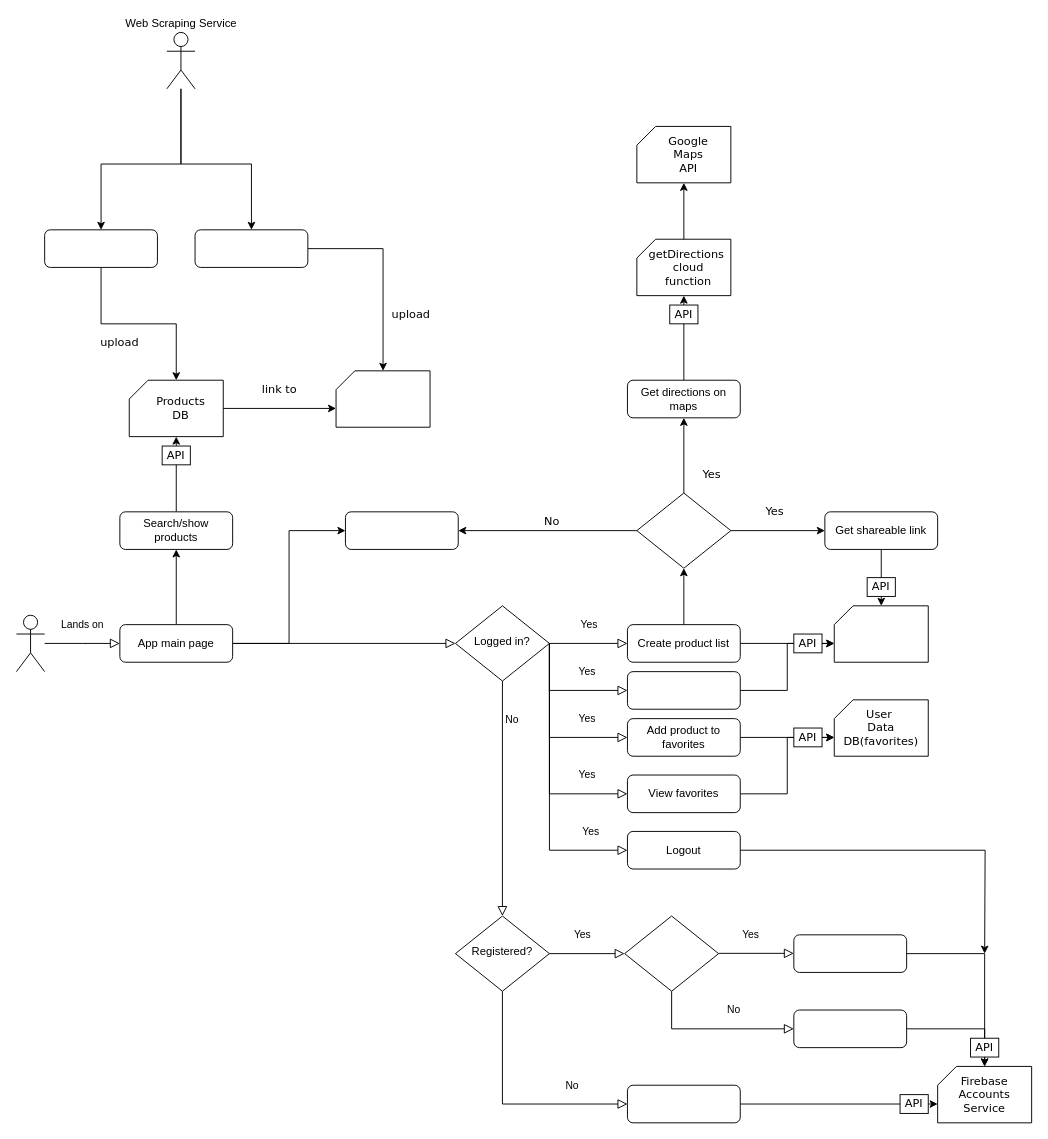
This 1048x1139 diagram has some shape labels left out. The centre of each missing label's shape, as x and y in pixels:
"Forgot Password?" goes at (671,953).
"Gather product information" goes at (100,248).
"Image Storage" goes at (382,398).
"Login into existing account" goes at (850,1028).
"Premium account?" goes at (683,530).
"Purchase premium" goes at (401,530).
"Register new account" goes at (683,1103).
"Reset Password" goes at (850,953).
"Save product thumbnails" goes at (251,248).
"User" goes at (30,643).
"User Data DB(lists)" goes at (880,633).
"View own product lists" goes at (683,690).
